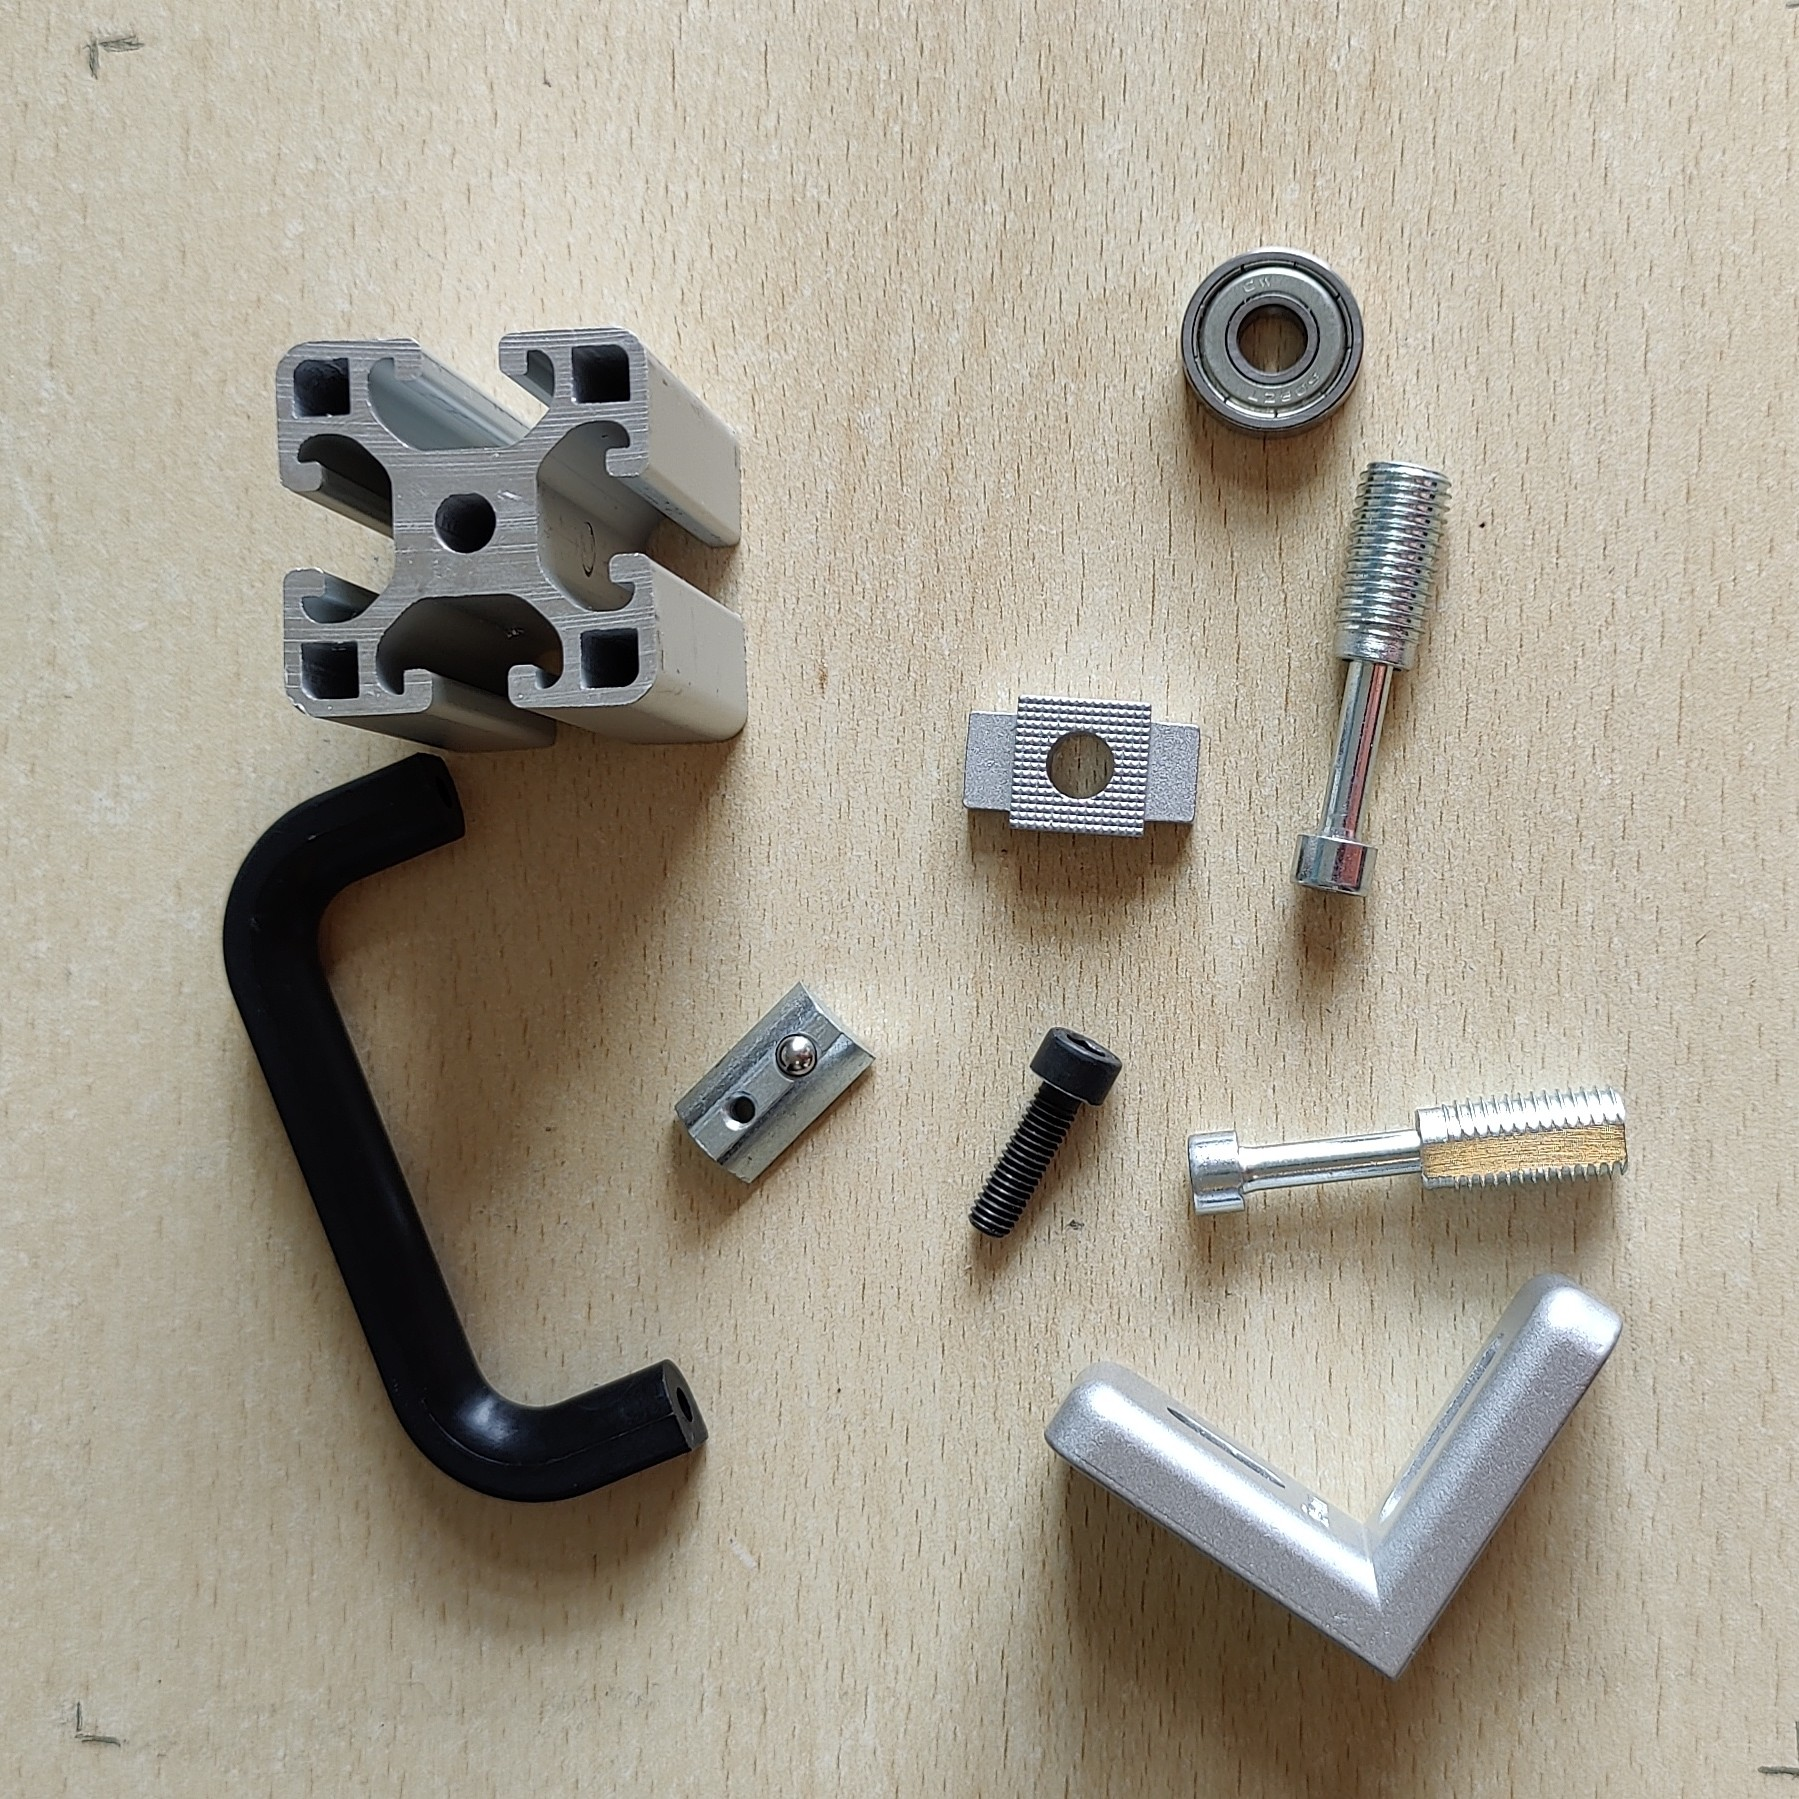Aluminium Extension: (273, 326, 751, 751)
Ball Bearing: (1180, 249, 1362, 442)
Multiwinkel: (1041, 1269, 1624, 1684)
Pull Handle: (219, 750, 708, 1504)
Shoulder Socket Head Cap Screw: (1288, 456, 1451, 899), (1185, 1082, 1629, 1219)
Socket Head Cap Screw: (969, 1023, 1122, 1241)
T Nut Square: (959, 695, 1203, 843)
T Spring Nut: (672, 977, 878, 1189)
